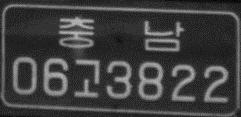0: (12, 55, 38, 97)
2: (203, 64, 230, 104), (170, 64, 196, 103)
3: (106, 59, 132, 99)
6: (42, 57, 68, 97)
8: (136, 61, 163, 102)
고: (73, 58, 99, 98)
충남_D: (57, 14, 184, 52)
